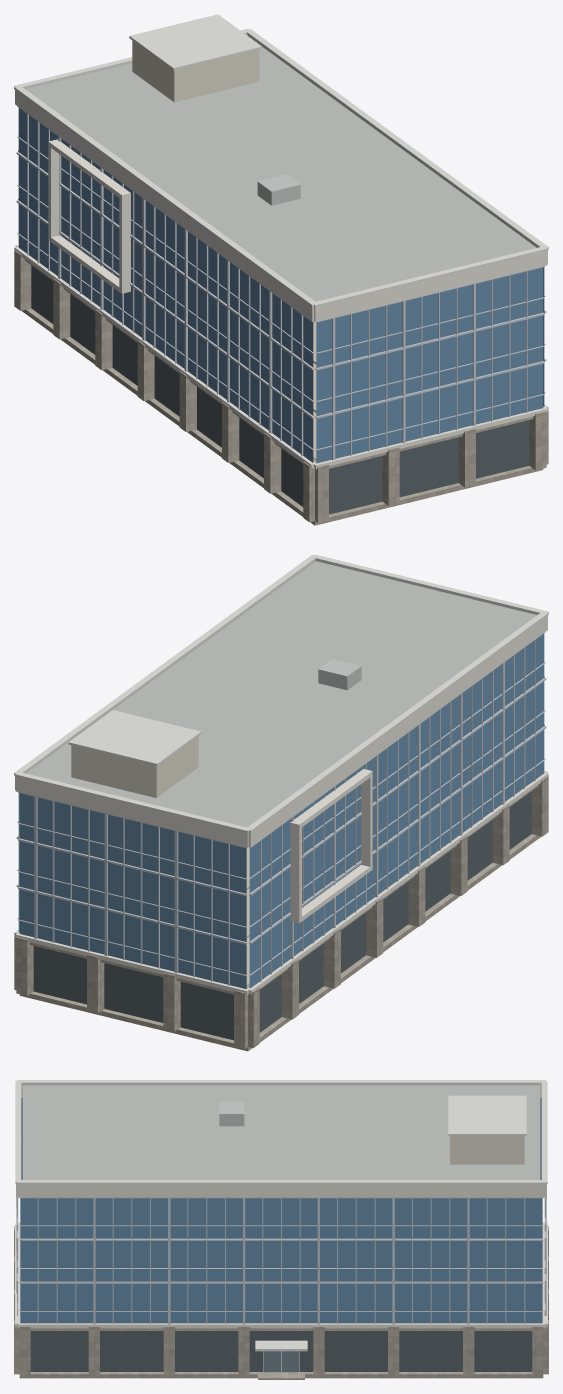
3 views of the same model, one above another, from view 1: azimuth 30°, elevation 25°; view 2: azimuth 150°, elevation 25°; view 3: azimuth 270°, elevation 25° (orthographic). The views are drawn at different scales.
Visible parts, largest first — view 1: it-center__curtainglass, it-center__greyroof, it-center__mullion, it-center__band, it-center__stone, it-center__lowglass, it-center__cap, it-center__ivory, it-center__plant; view 2: it-center__curtainglass, it-center__greyroof, it-center__mullion, it-center__band, it-center__stone, it-center__lowglass, it-center__cap, it-center__ivory, it-center__plant; view 3: it-center__curtainglass, it-center__greyroof, it-center__lowglass, it-center__mullion, it-center__band, it-center__cap, it-center__stone, it-center__ivory, it-center__glass, it-center__plant, it-center__threshold-court.
Boxes of the visible parts, x1=… form: it-center__curtainglass: x1=18, y1=108, x2=544, y2=463; it-center__greyroof: x1=26, y1=47, x2=536, y2=301; it-center__mullion: x1=16, y1=106, x2=546, y2=460; it-center__band: x1=14, y1=34, x2=548, y2=469; it-center__stone: x1=14, y1=250, x2=548, y2=525; it-center__lowglass: x1=31, y1=265, x2=529, y2=514; it-center__cap: x1=14, y1=14, x2=548, y2=307; it-center__ivory: x1=132, y1=40, x2=259, y2=102; it-center__plant: x1=257, y1=174, x2=300, y2=205; it-center__curtainglass: x1=18, y1=633, x2=544, y2=989; it-center__greyroof: x1=26, y1=561, x2=536, y2=827; it-center__mullion: x1=16, y1=632, x2=546, y2=985; it-center__band: x1=14, y1=560, x2=548, y2=994; it-center__stone: x1=14, y1=776, x2=548, y2=1051; it-center__lowglass: x1=33, y1=791, x2=531, y2=1040; it-center__cap: x1=14, y1=554, x2=548, y2=832; it-center__ivory: x1=71, y1=736, x2=198, y2=797; it-center__plant: x1=318, y1=659, x2=361, y2=690; it-center__curtainglass: x1=20, y1=1098, x2=542, y2=1323; it-center__greyroof: x1=22, y1=1085, x2=540, y2=1179; it-center__lowglass: x1=30, y1=1331, x2=532, y2=1371; it-center__mullion: x1=16, y1=1139, x2=546, y2=1324; it-center__band: x1=15, y1=1084, x2=547, y2=1328; it-center__cap: x1=15, y1=1080, x2=547, y2=1351; it-center__stone: x1=14, y1=1226, x2=548, y2=1378; it-center__ivory: x1=450, y1=1136, x2=524, y2=1164; it-center__glass: x1=263, y1=1351, x2=299, y2=1371; it-center__plant: x1=219, y1=1101, x2=244, y2=1126; it-center__threshold-court: x1=258, y1=1372, x2=304, y2=1379.
Size of the model in its own units: 21.32 by 20.15 by 43.
Materials: 12 (1 with a texture image).
